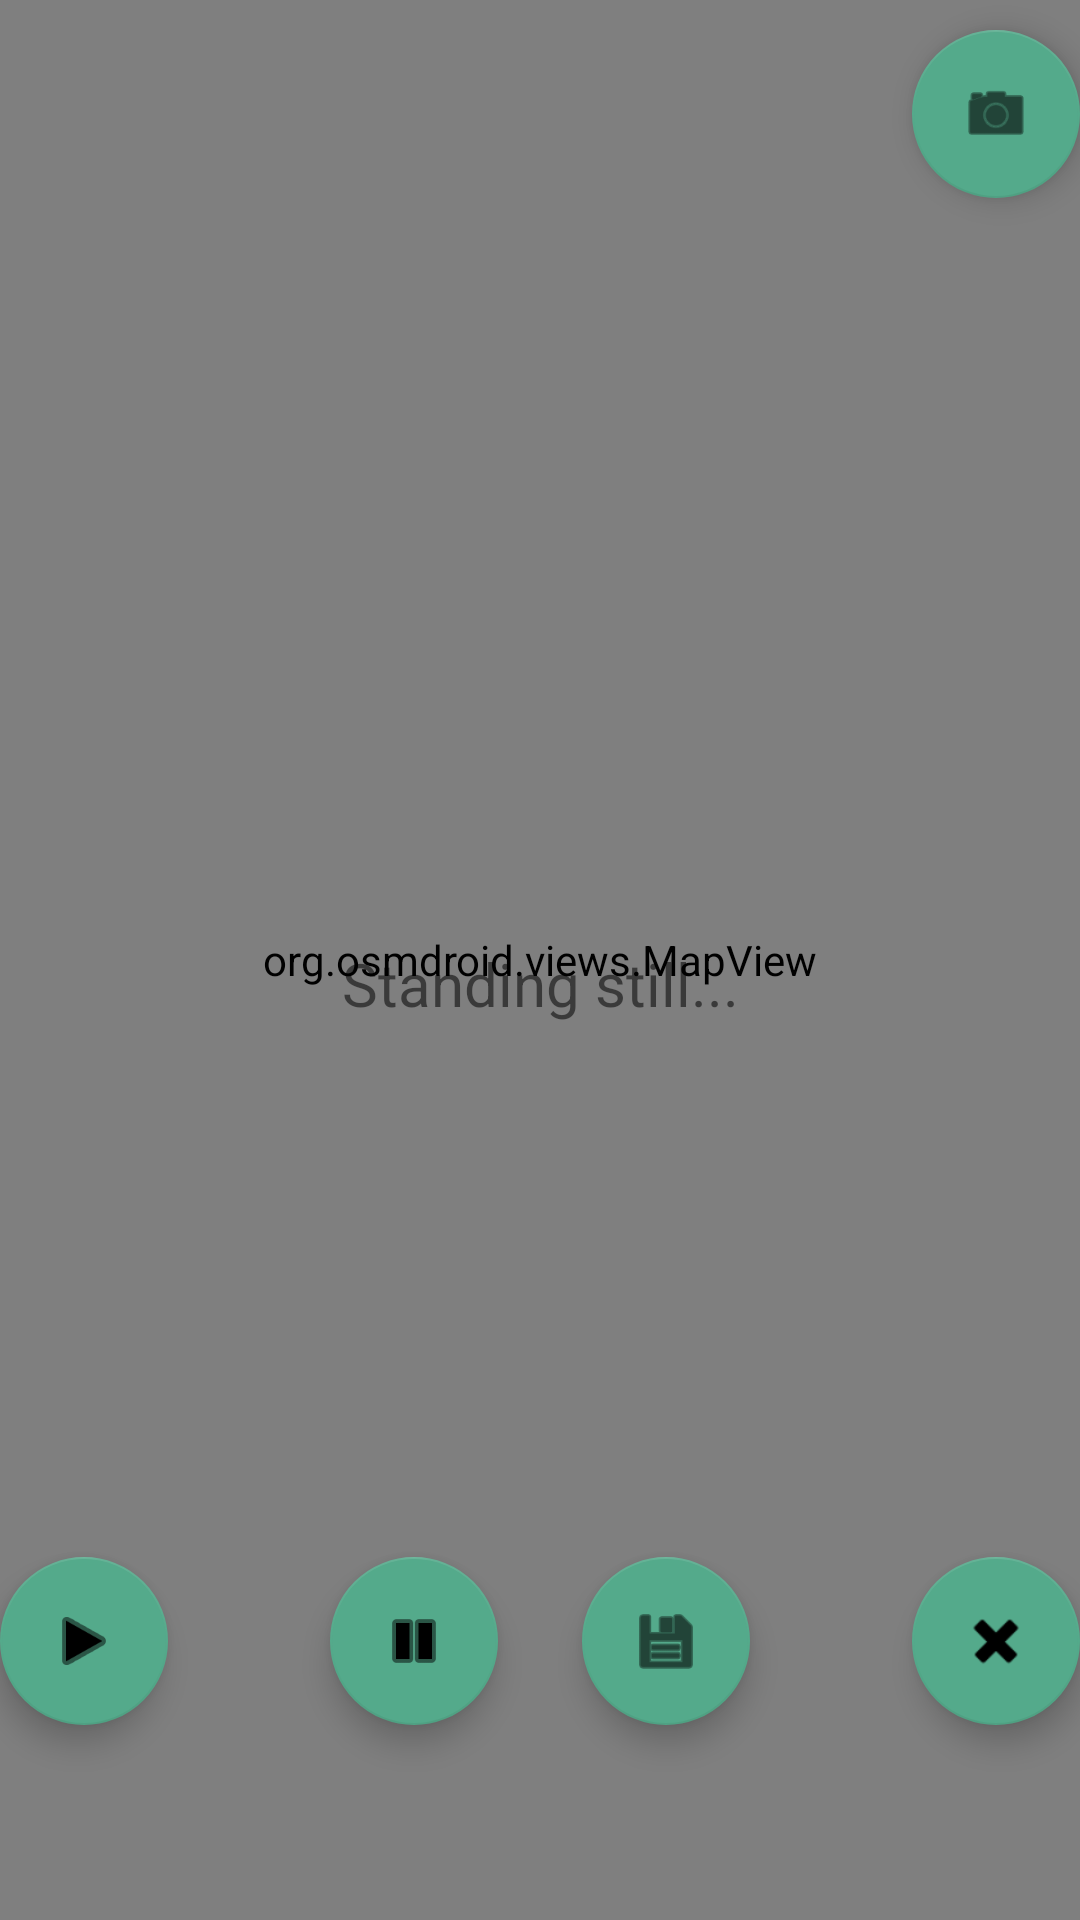

Named icons in this screenshot (1080x1920) and their bounding boxes, (x1, y1, x2, y2):
camera: (912, 30, 1080, 198)
delete: (912, 1557, 1080, 1725)
pause: (330, 1557, 498, 1725)
play: (0, 1557, 168, 1725)
save: (582, 1557, 750, 1725)
